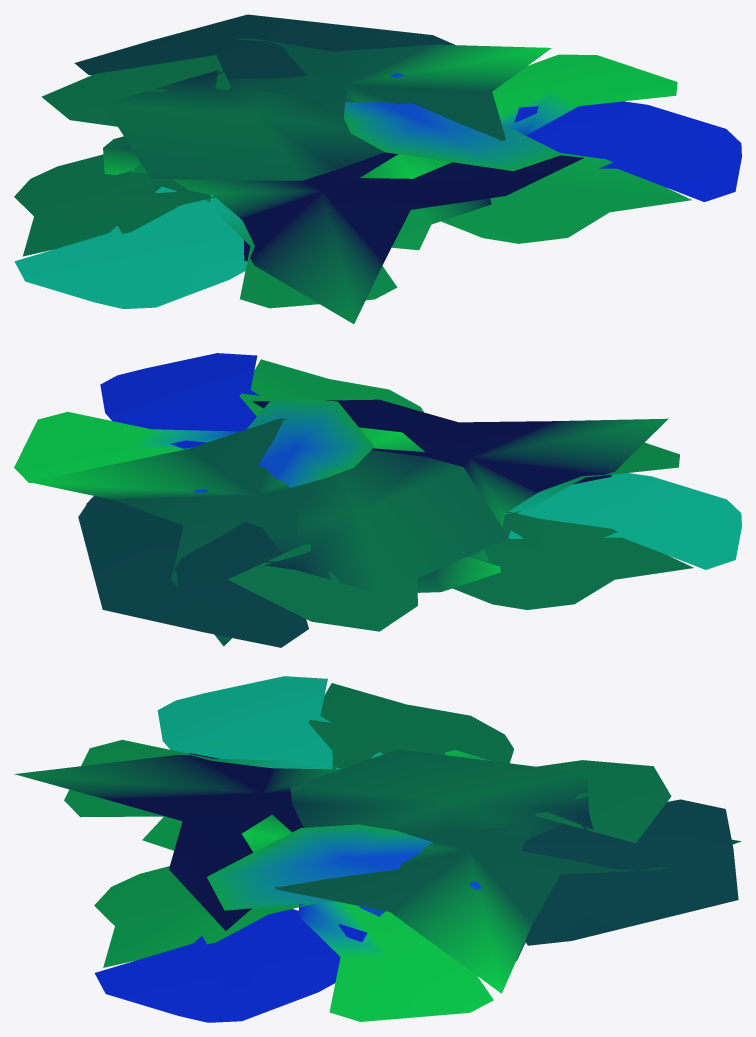
File: Wild_Grass_vdilbaiia_Mid_vdilbaiia_VarI_LOD1.fbx
3 views of the same model, one above another, from view 1: azimuth 30°, elevation 25°; view 2: azimuth 150°, elevation 25°; view 3: azimuth 270°, elevation 25° (orthographic). The views are drawn at different scales.
Parts seen in each view (by area): view 1: _dnm0_VarI_LOD2; view 2: _dnm0_VarI_LOD2; view 3: _dnm0_VarI_LOD2.
Part boxes in pixels (bbox=[...]): _dnm0_VarI_LOD2: bbox=[14, 14, 741, 323]; _dnm0_VarI_LOD2: bbox=[14, 353, 741, 647]; _dnm0_VarI_LOD2: bbox=[14, 676, 741, 1022].
Size of the model in its own units: 77.25 by 4.26 by 67.78.
